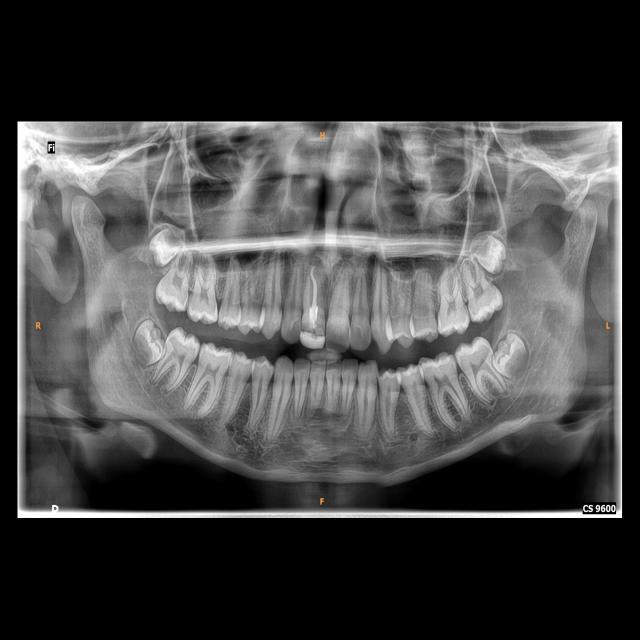dolgu: (299, 318, 328, 349)
kanal-tedavisi: (305, 262, 326, 326)
